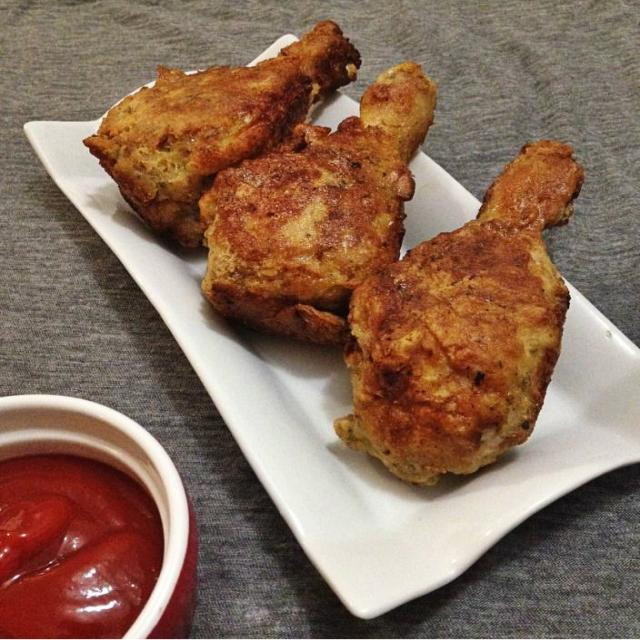Frango: (84, 28, 582, 490)
